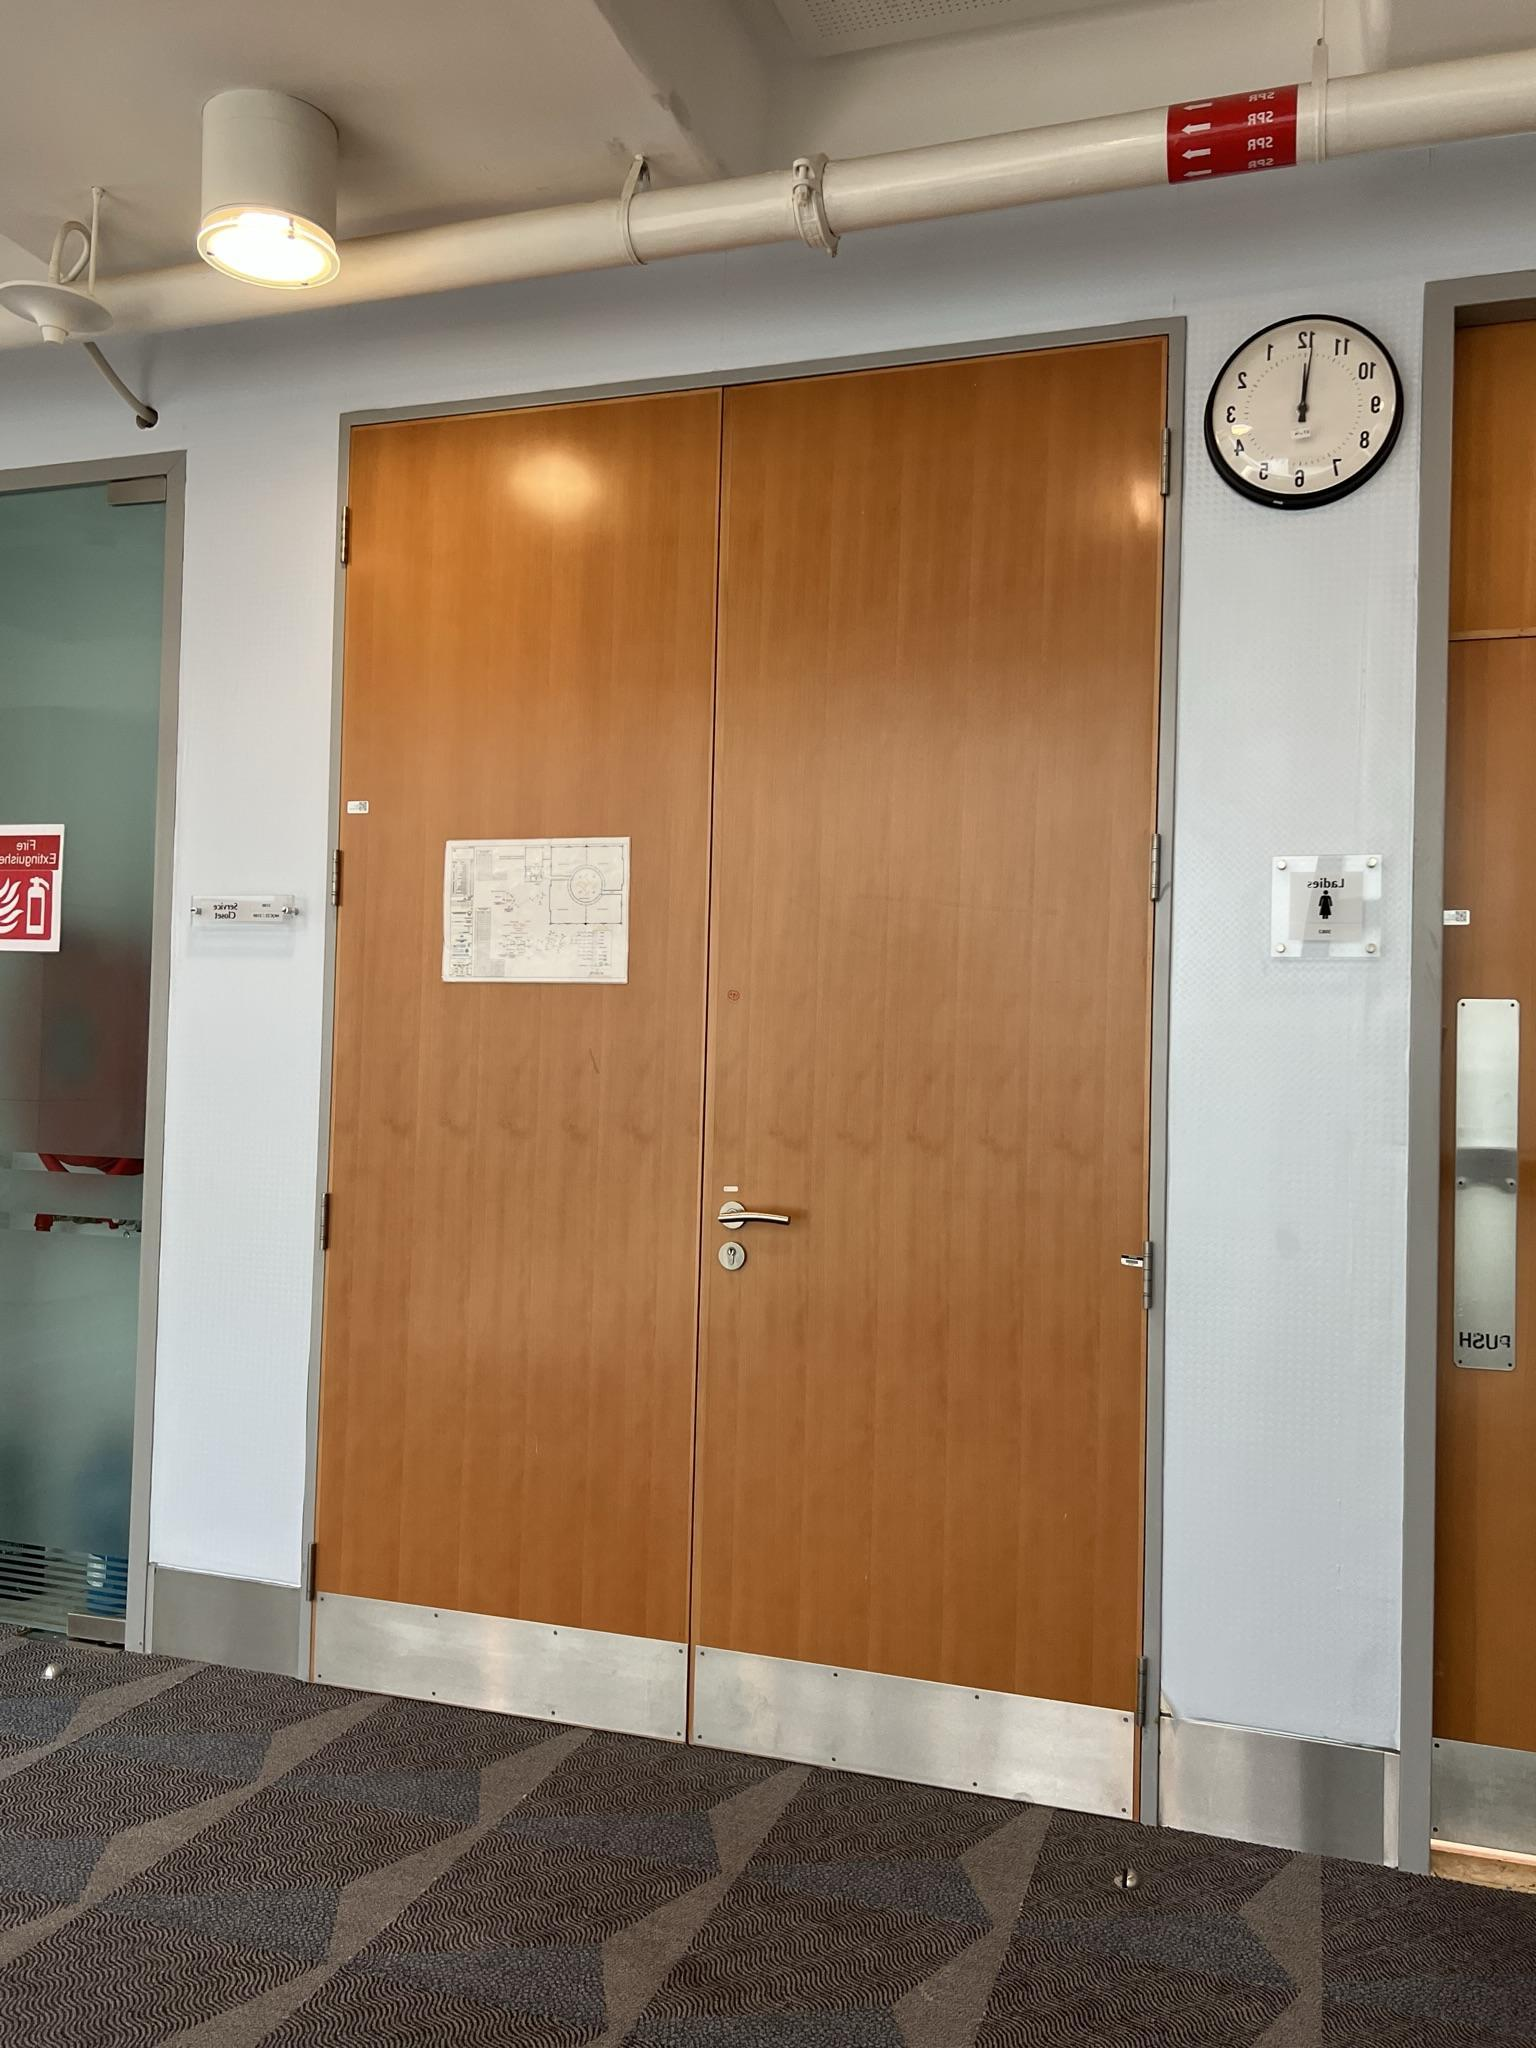door: (687, 321, 1184, 1779), (298, 356, 708, 1722), (0, 476, 186, 1642), (1446, 281, 1536, 1842)
handle: (712, 1192, 808, 1279)
